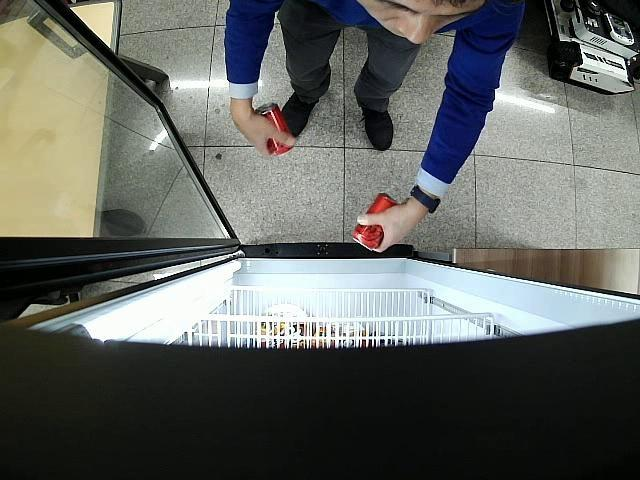11_cocaColaZero: (353, 192, 399, 250), (256, 102, 294, 154)
